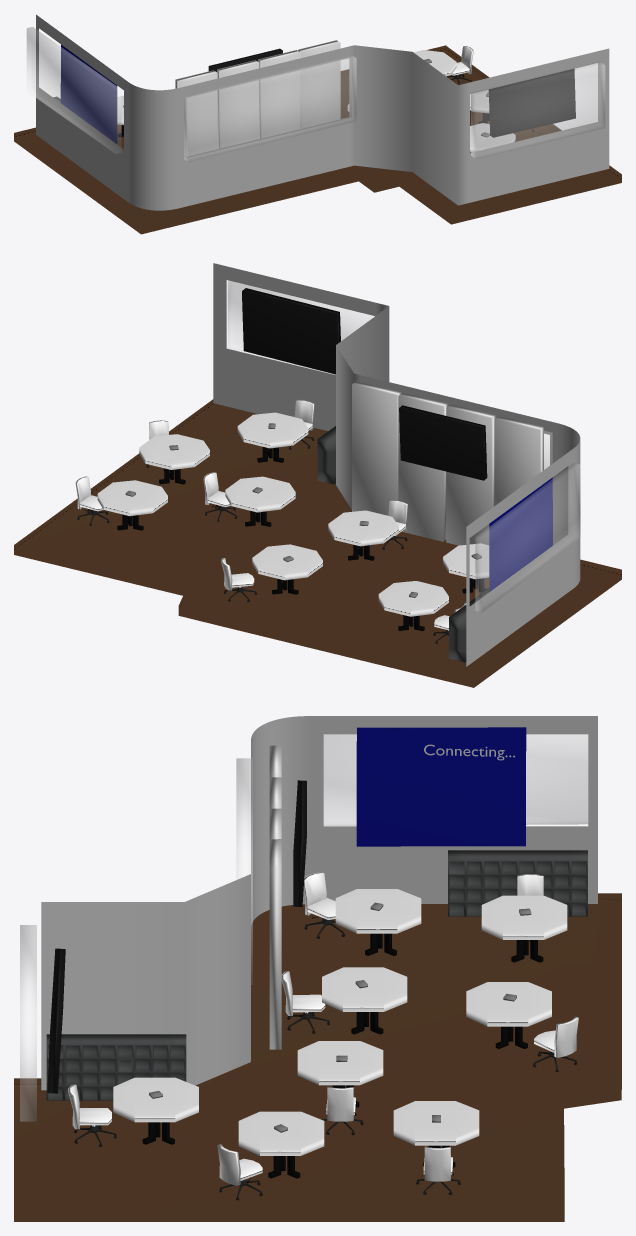
Rendered from projetoInterSala.glb.
The picture shows the model from 3 angles, top to bottom: view 1: azimuth 30°, elevation 25°; view 2: azimuth 150°, elevation 25°; view 3: azimuth 270°, elevation 25°; orthographic projection. The views are drawn at different scales.
Parts seen in each view (by area): view 1: Cube, Plane, Cube.062, Cube.007, Cube.063, Cube.008, Cube.009, Cube.011, Cube.010, Cube.003, Cube.012, Cube.021 (+3 smaller); view 2: Plane, Cube, Cube.063, Cube.008, Cube.003, Cube.006, Cube.009, Cube.010, Cube.011, Cube.012, Cube.007, Cube.021 (+9 smaller); view 3: Plane, Cube, Cube.009, Cube.063, Cube.001, Cube.002, Cube.021, Cube.028, Cube.013, Cube.037, Cube.036, Cube.020 (+12 smaller).
Boxes of the visible parts, left/top/right/bottom form: Cube: left=36, top=14, right=609, bottom=210; Plane: left=14, top=45, right=621, bottom=234; Cube.062: left=184, top=55, right=356, bottom=161; Cube.007: left=471, top=61, right=604, bottom=159; Cube.063: left=27, top=27, right=121, bottom=153; Cube.008: left=488, top=69, right=575, bottom=137; Cube.009: left=60, top=44, right=117, bottom=143; Cube.011: left=217, top=60, right=259, bottom=148; Cube.010: left=258, top=50, right=300, bottom=138; Cube.003: left=298, top=40, right=340, bottom=128; Cube.012: left=175, top=70, right=217, bottom=156; Cube.021: left=470, top=123, right=515, bottom=152; Plane: left=14, top=399, right=621, bottom=687; Cube: left=213, top=263, right=580, bottom=666; Cube.063: left=475, top=463, right=580, bottom=611; Cube.008: left=242, top=288, right=340, bottom=374; Cube.003: left=352, top=381, right=401, bottom=515; Cube.006: left=399, top=405, right=487, bottom=480; Cube.009: left=489, top=477, right=552, bottom=591; Cube.010: left=398, top=392, right=447, bottom=541; Cube.011: left=446, top=404, right=495, bottom=545; Cube.012: left=494, top=416, right=543, bottom=505; Cube.007: left=228, top=280, right=374, bottom=374; Cube.021: left=237, top=412, right=308, bottom=448; Plane: left=14, top=893, right=621, bottom=1221; Cube: left=41, top=716, right=597, bottom=1090; Cube.009: left=356, top=727, right=526, bottom=846; Cube.063: left=324, top=734, right=587, bottom=825; Cube.001: left=448, top=850, right=587, bottom=916; Cube.002: left=46, top=1034, right=186, bottom=1100; Cube.021: left=113, top=1077, right=198, bottom=1122; Cube.028: left=297, top=1041, right=383, bottom=1085; Cube.013: left=393, top=1101, right=479, bottom=1145; Cube.037: left=481, top=895, right=567, bottom=939; Cube.036: left=335, top=889, right=421, bottom=933; Cube.020: left=238, top=1111, right=324, bottom=1155.
Bounding box in the file's own units: 88.29 × 28.57 × 71.98.
